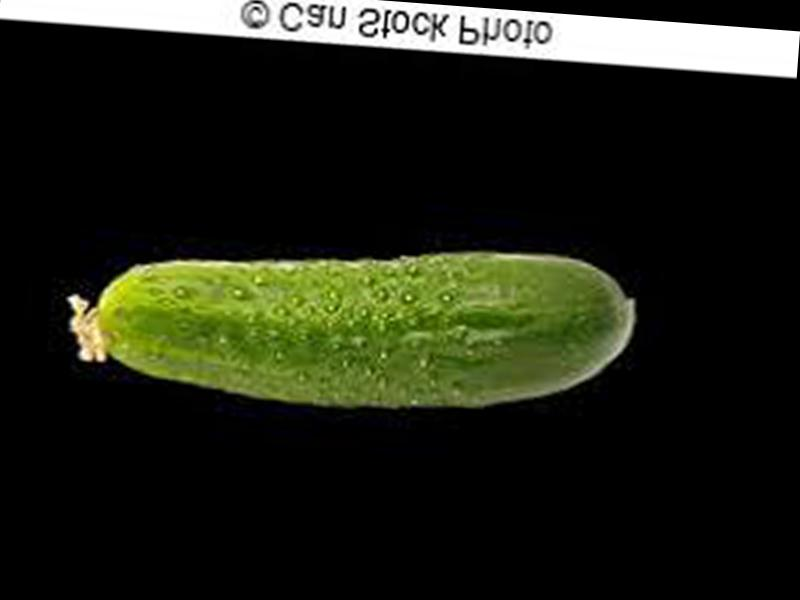Cucumber: (60, 221, 639, 428)
